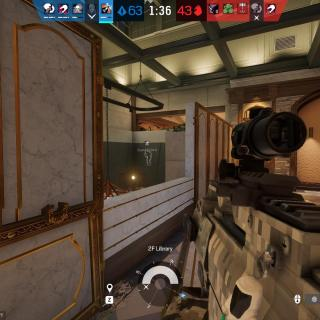Friend_label: (137, 139, 158, 152)
